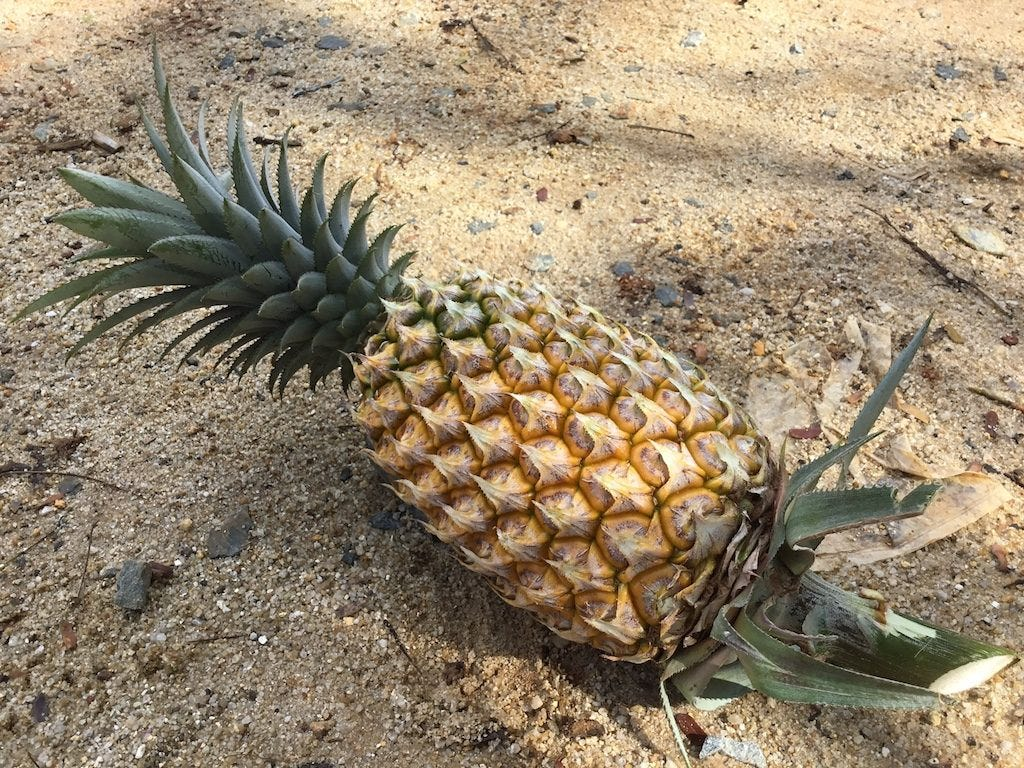pineapple: (37, 74, 817, 693)
